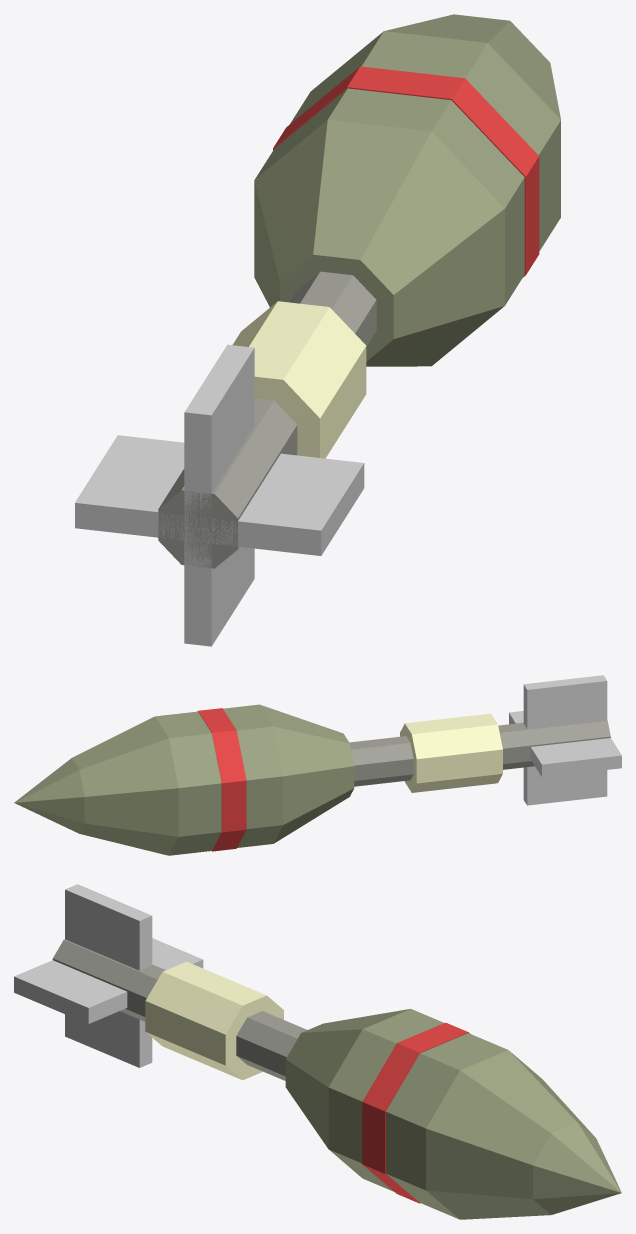
Rendered from ce_ammo_mortar_airburst_a.obj.
3 views of the same model, one above another, from view 1: azimuth 30°, elevation 25°; view 2: azimuth 150°, elevation 25°; view 3: azimuth 270°, elevation 25° (orthographic). The views are drawn at different scales.
Visible parts, largest first — view 1: ce_ammo_mortar_airburst_a_2, ce_ammo_mortar_airburst_a_8, ce_ammo_mortar_airburst_a_9, ce_ammo_mortar_airburst_a_1, ce_ammo_mortar_airburst_a_0, ce_ammo_mortar_airburst_a_5, ce_ammo_mortar_airburst_a_3, ce_ammo_mortar_airburst_a_4, ce_ammo_mortar_airburst_a_6; view 2: ce_ammo_mortar_airburst_a_6, ce_ammo_mortar_airburst_a_2, ce_ammo_mortar_airburst_a_1, ce_ammo_mortar_airburst_a_9, ce_ammo_mortar_airburst_a_5, ce_ammo_mortar_airburst_a_0, ce_ammo_mortar_airburst_a_3, ce_ammo_mortar_airburst_a_4, ce_ammo_mortar_airburst_a_8, ce_ammo_mortar_airburst_a_7; view 3: ce_ammo_mortar_airburst_a_6, ce_ammo_mortar_airburst_a_1, ce_ammo_mortar_airburst_a_9, ce_ammo_mortar_airburst_a_5, ce_ammo_mortar_airburst_a_3, ce_ammo_mortar_airburst_a_0, ce_ammo_mortar_airburst_a_7, ce_ammo_mortar_airburst_a_2, ce_ammo_mortar_airburst_a_8, ce_ammo_mortar_airburst_a_4.
Part boxes in pixels (x1,y1,x2,y2): ce_ammo_mortar_airburst_a_2: (254, 119, 504, 366); ce_ammo_mortar_airburst_a_8: (75, 435, 364, 555); ce_ammo_mortar_airburst_a_9: (184, 344, 254, 646); ce_ammo_mortar_airburst_a_1: (232, 301, 366, 458); ce_ammo_mortar_airburst_a_0: (158, 271, 376, 568); ce_ammo_mortar_airburst_a_5: (290, 31, 560, 250); ce_ammo_mortar_airburst_a_3: (255, 88, 524, 305); ce_ammo_mortar_airburst_a_4: (273, 66, 539, 277); ce_ammo_mortar_airburst_a_6: (384, 14, 560, 119); ce_ammo_mortar_airburst_a_6: (72, 716, 178, 855); ce_ammo_mortar_airburst_a_2: (260, 704, 354, 843); ce_ammo_mortar_airburst_a_1: (400, 713, 502, 792); ce_ammo_mortar_airburst_a_9: (523, 675, 607, 805); ce_ammo_mortar_airburst_a_5: (155, 711, 221, 855); ce_ammo_mortar_airburst_a_0: (349, 720, 610, 786); ce_ammo_mortar_airburst_a_3: (223, 704, 283, 847); ce_ammo_mortar_airburst_a_4: (197, 708, 246, 851); ce_ammo_mortar_airburst_a_8: (509, 711, 621, 777); ce_ammo_mortar_airburst_a_7: (14, 758, 84, 833); ce_ammo_mortar_airburst_a_6: (426, 1050, 595, 1219); ce_ammo_mortar_airburst_a_1: (145, 961, 283, 1080); ce_ammo_mortar_airburst_a_9: (65, 884, 152, 1067); ce_ammo_mortar_airburst_a_5: (386, 1033, 507, 1219); ce_ammo_mortar_airburst_a_3: (328, 1009, 443, 1191); ce_ammo_mortar_airburst_a_0: (52, 939, 307, 1080); ce_ammo_mortar_airburst_a_7: (533, 1122, 621, 1214); ce_ammo_mortar_airburst_a_2: (285, 1009, 409, 1148); ce_ammo_mortar_airburst_a_8: (14, 938, 203, 1023); ce_ammo_mortar_airburst_a_4: (362, 1022, 469, 1203).
Size of the model in its own units: 0.7495 by 0.2052 by 0.7495.
